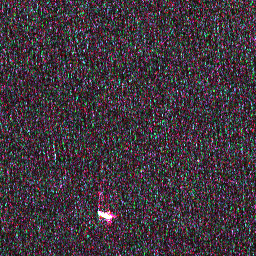ship: (95, 208, 114, 222)
